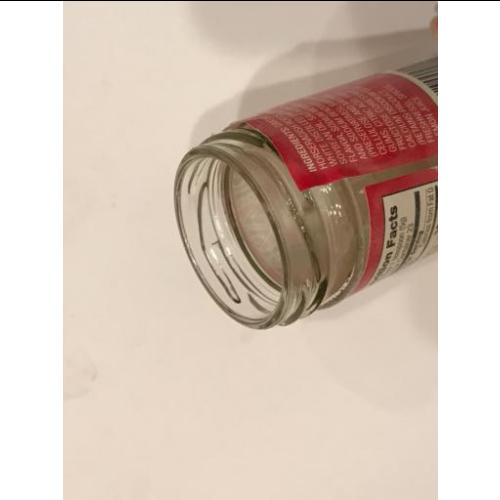glass: (180, 56, 439, 329)
